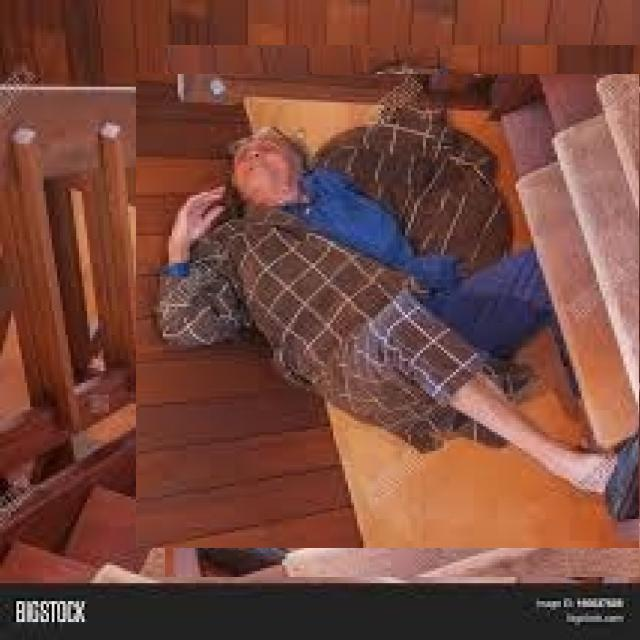Fall: (105, 83, 640, 556)
